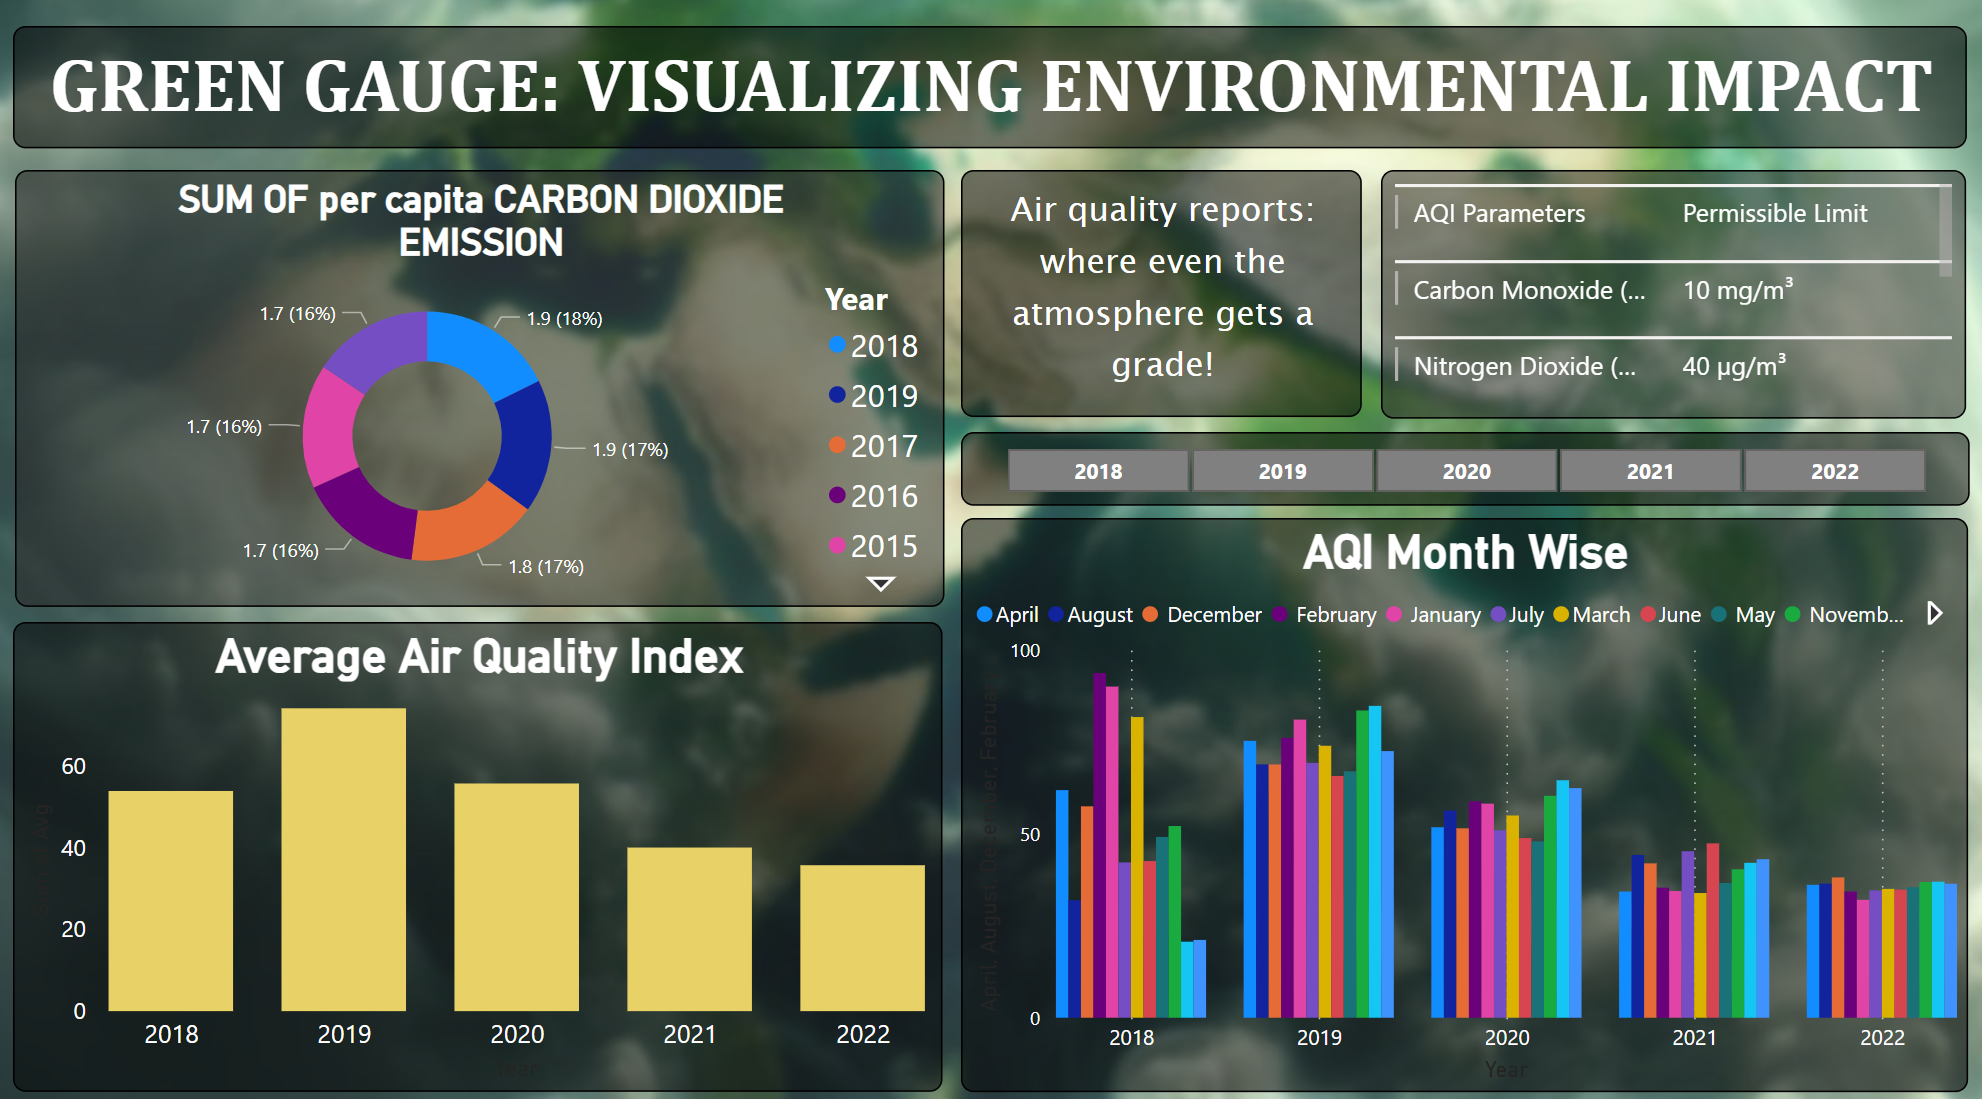

This screenshot's page, from the dashboard's own definition file:
{"tool":"powerbi","page":{"name":"Page 1","canvas":[1280,720],"ordinal":0},"visuals":[{"type":"image","box":[0,0,1279.5,720],"z":0},{"type":"donutChart","title":"SUM OF per capita CARBON DIOXIDE EMISSION","fields":{"Category":["C02 Emission.Year"],"Y":["Sum(C02 Emission.Per Capita carbon dioxide emission)"]},"box":[17.4,120.7,592.4,278.3],"z":1000},{"type":"textbox","box":[16.7,28.9,1245.6,77.8],"z":2000},{"type":"columnChart","title":" Average Air Quality Index ","fields":{"Y":["Sum(air-quality-india (2017-2022) (2).Avg )"],"Category":["air-quality-india (2017-2022) (2).Year"]},"box":[17.1,408.7,592.7,299.6],"z":3000},{"type":"clusteredColumnChart","title":"AQI Month Wise","fields":{"Y":["Sum(air-quality-india (2017-2022) (2).April)","Sum(air-quality-india (2017-2022) (2).August)","Sum(air-quality-india (2017-2022) (2).December)","Sum(air-quality-india (2017-2022) (2).February)","Sum(air-quality-india (2017-2022) (2).January)","Sum(air-quality-india (2017-2022) (2).July)","Sum(air-quality-india (2017-2022) (2).March)","Sum(air-quality-india (2017-2022) (2).June)","Sum(air-quality-india (2017-2022) (2).May)","Sum(air-quality-india (2017-2022) (2).November)","Sum(air-quality-india (2017-2022) (2).October)","Sum(air-quality-india (2017-2022) (2).September)"],"Category":["air-quality-india (2017-2022) (2).Year"]},"box":[620.5,342.3,641.9,365.9],"z":4000},{"type":"slicer","fields":{"Values":["air-quality-india (2017-2022) (2).Year"]},"box":[620.5,287.8,643,47.1],"z":5000},{"type":"textbox","box":[620.7,121.7,255.4,157.6],"z":6000},{"type":"multiRowCard","fields":{"Values":["AQI Parameters.Column1","AQI Parameters.Column2"]},"box":[889.1,120.7,372.8,158.7],"z":7000}]}

Visuals, with their boxes in screenshot pixels (x1, y1, x2, y2), scaled from the page's 1280x720 canvas onto the 1982x1099 screenshot:
image: <bbox>0, 0, 1981, 1098</bbox>
"SUM OF per capita CARBON DIOXIDE EMISSION" donutChart: <bbox>27, 184, 944, 609</bbox>
textbox: <bbox>26, 44, 1955, 163</bbox>
" Average Air Quality Index " columnChart: <bbox>26, 624, 944, 1081</bbox>
"AQI Month Wise" clusteredColumnChart: <bbox>961, 522, 1955, 1081</bbox>
slicer - air-quality-india (2017-2022) (2).Year: <bbox>961, 439, 1956, 511</bbox>
textbox: <bbox>961, 186, 1357, 426</bbox>
multiRowCard - AQI Parameters.Column1 x AQI Parameters.Column2: <bbox>1377, 184, 1954, 426</bbox>
